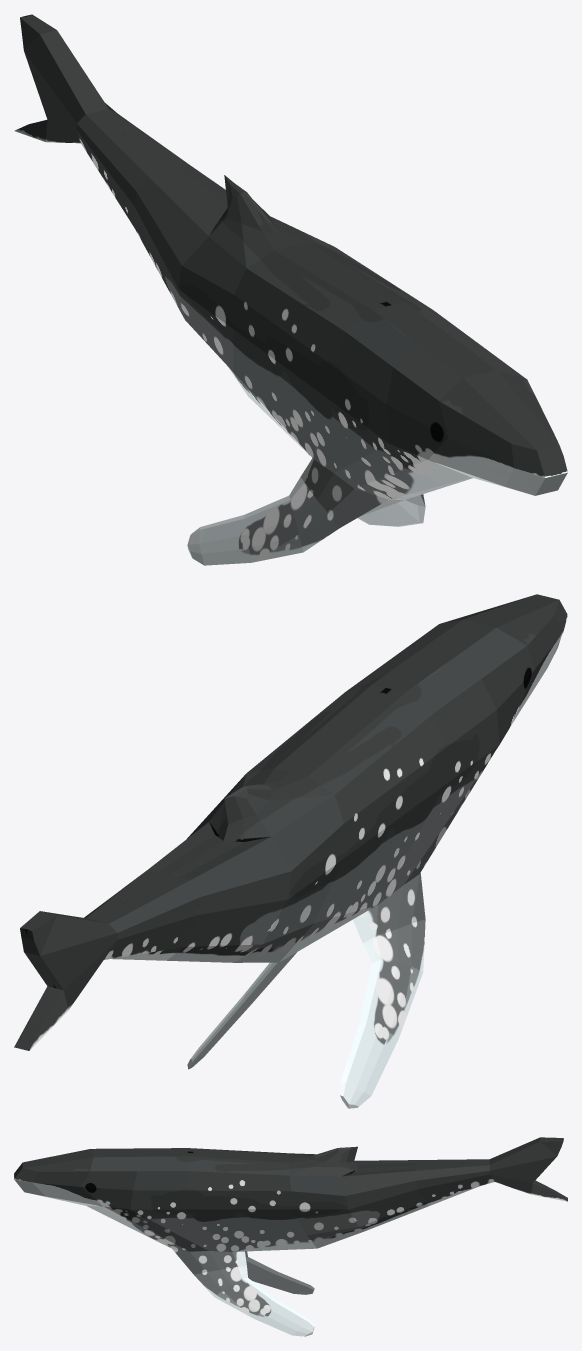
Rendered from WhaleFishy.fbx.
3 renders of one model, top to bottom at view 1: azimuth 30°, elevation 25°; view 2: azimuth 150°, elevation 25°; view 3: azimuth 270°, elevation 25°, orthographic. The views are drawn at different scales.
Visible parts, largest first — view 1: WhaleFishy; view 2: WhaleFishy; view 3: WhaleFishy.
Part boxes in pixels (box(x1,y1,x2,y2)): WhaleFishy: box(14, 14, 567, 565); WhaleFishy: box(14, 594, 567, 1108); WhaleFishy: box(14, 1137, 567, 1336).
Size of the model in its own units: 121 by 236 by 672.
Materials: 1 (1 with a texture image).
